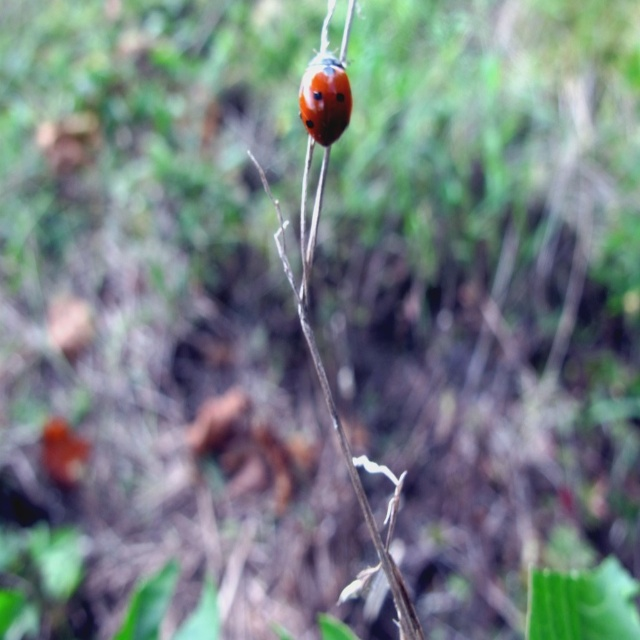Ladybug: (297, 42, 353, 148)
